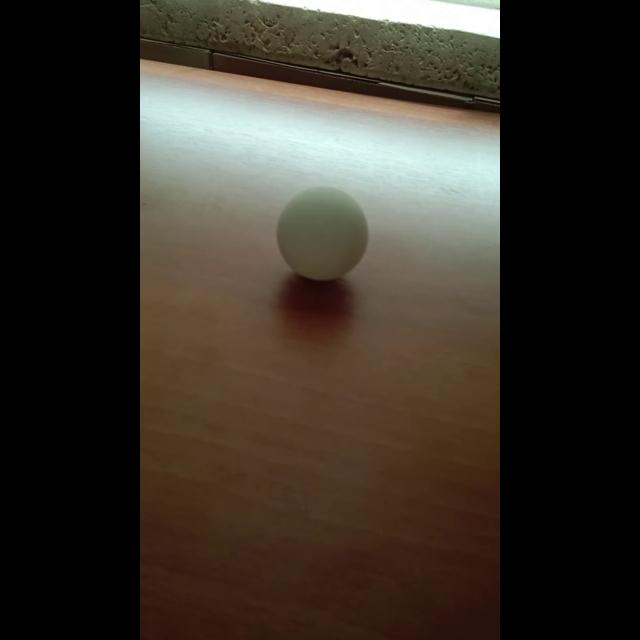white ball: (276, 185, 368, 282)
